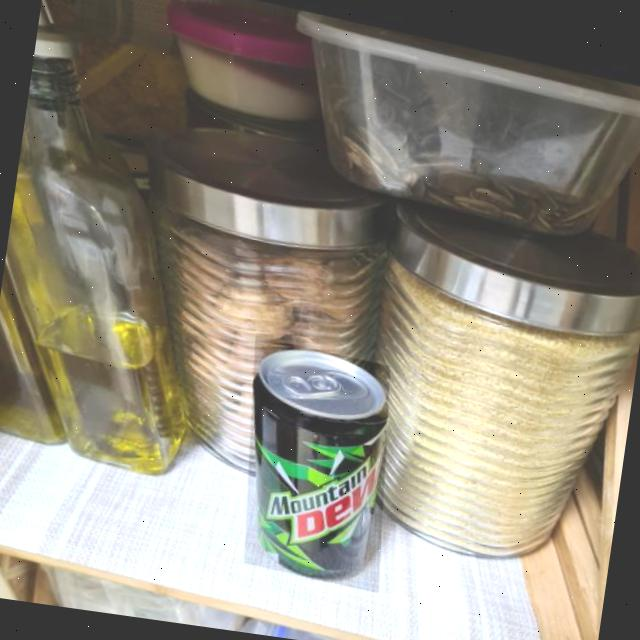trash: (223, 336, 405, 588)
